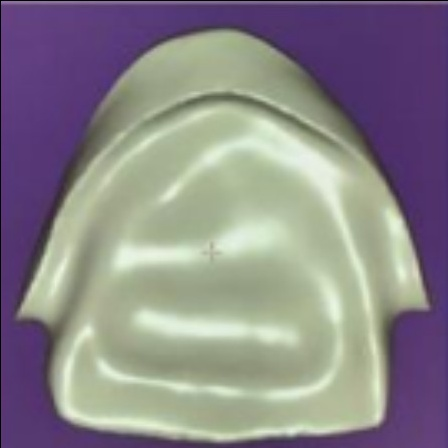coin_1: (392, 317, 412, 337)
coin_2: (387, 407, 407, 427)
coin_3: (46, 325, 66, 345)
coin_4: (42, 370, 62, 390)
